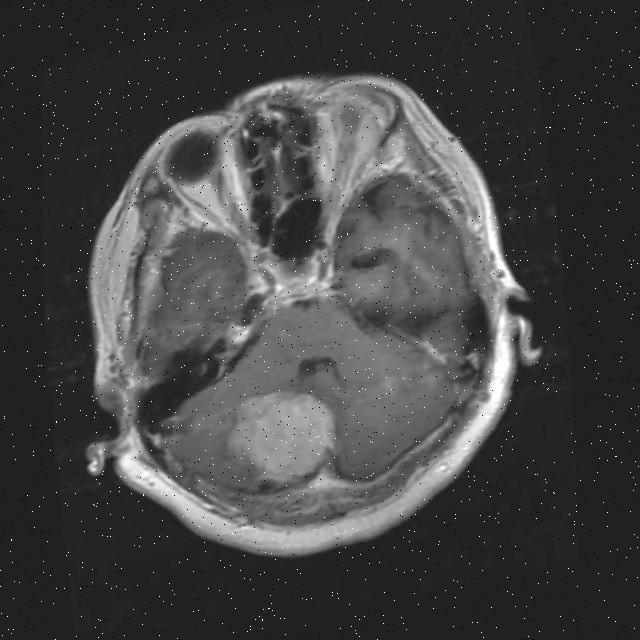Meningioma: (217, 378, 347, 498)
